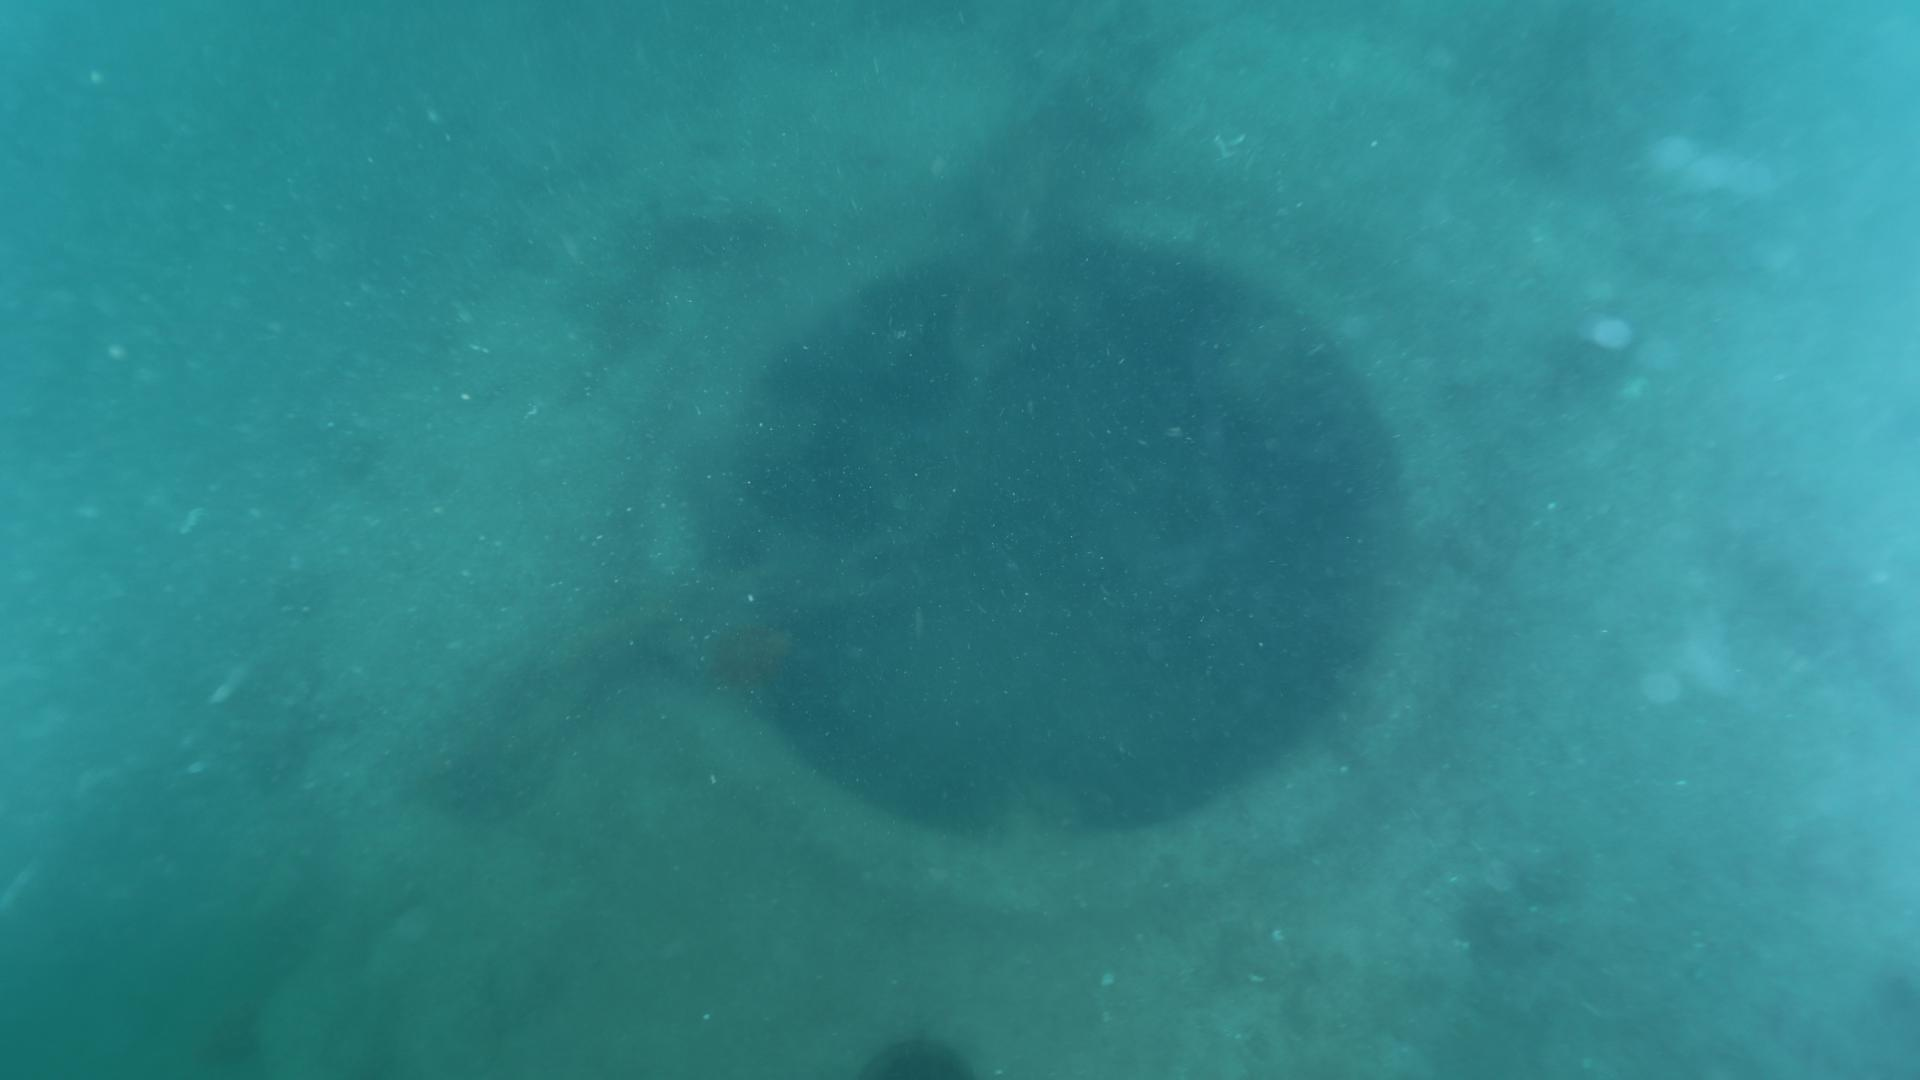tire: (323, 17, 1658, 1080)
